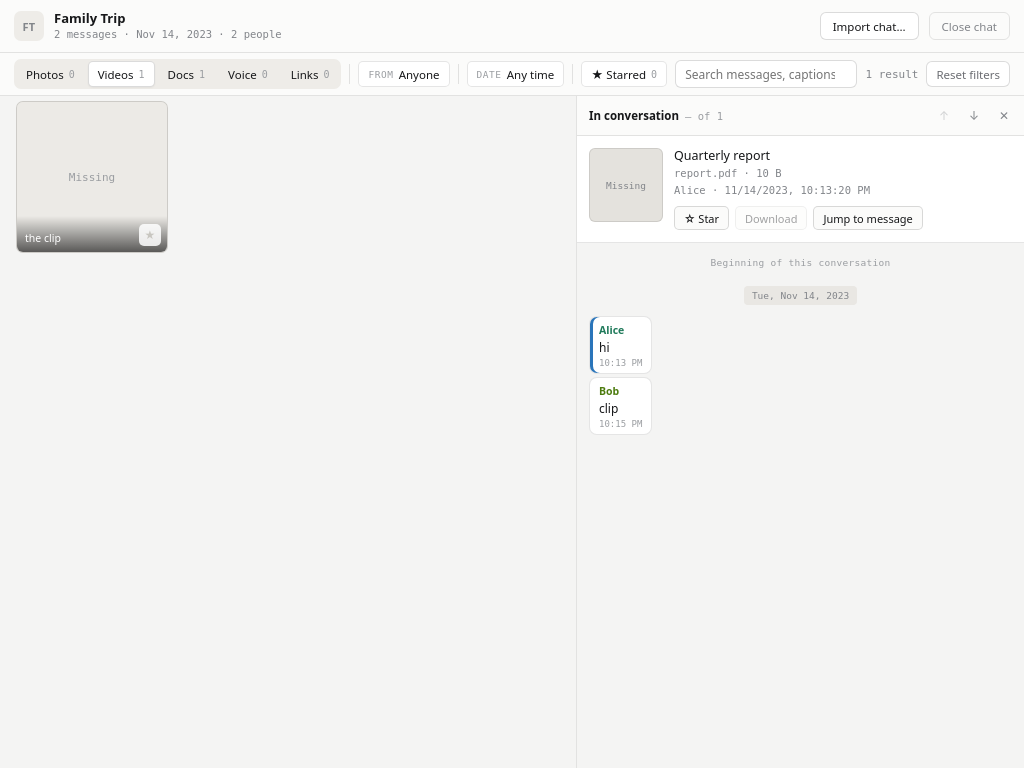
Test: the open item falling outside the filters › lets Next drop back into the filtered set
Check: the element named "Message detail" is shown, box left=576, top=96, right=1023, bottom=767
Click the button named "Next item": (974, 116) left=962, top=104, right=986, bottom=128
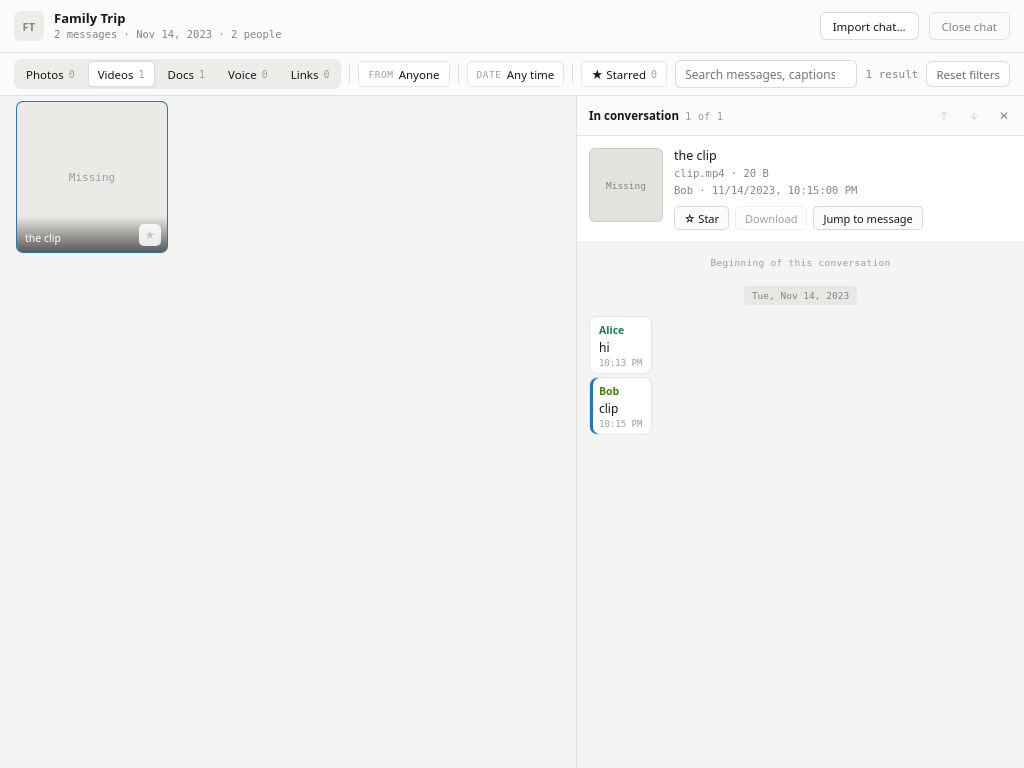
Check: the text "1 of 1" is shown, box left=685, top=110, right=723, bottom=122
